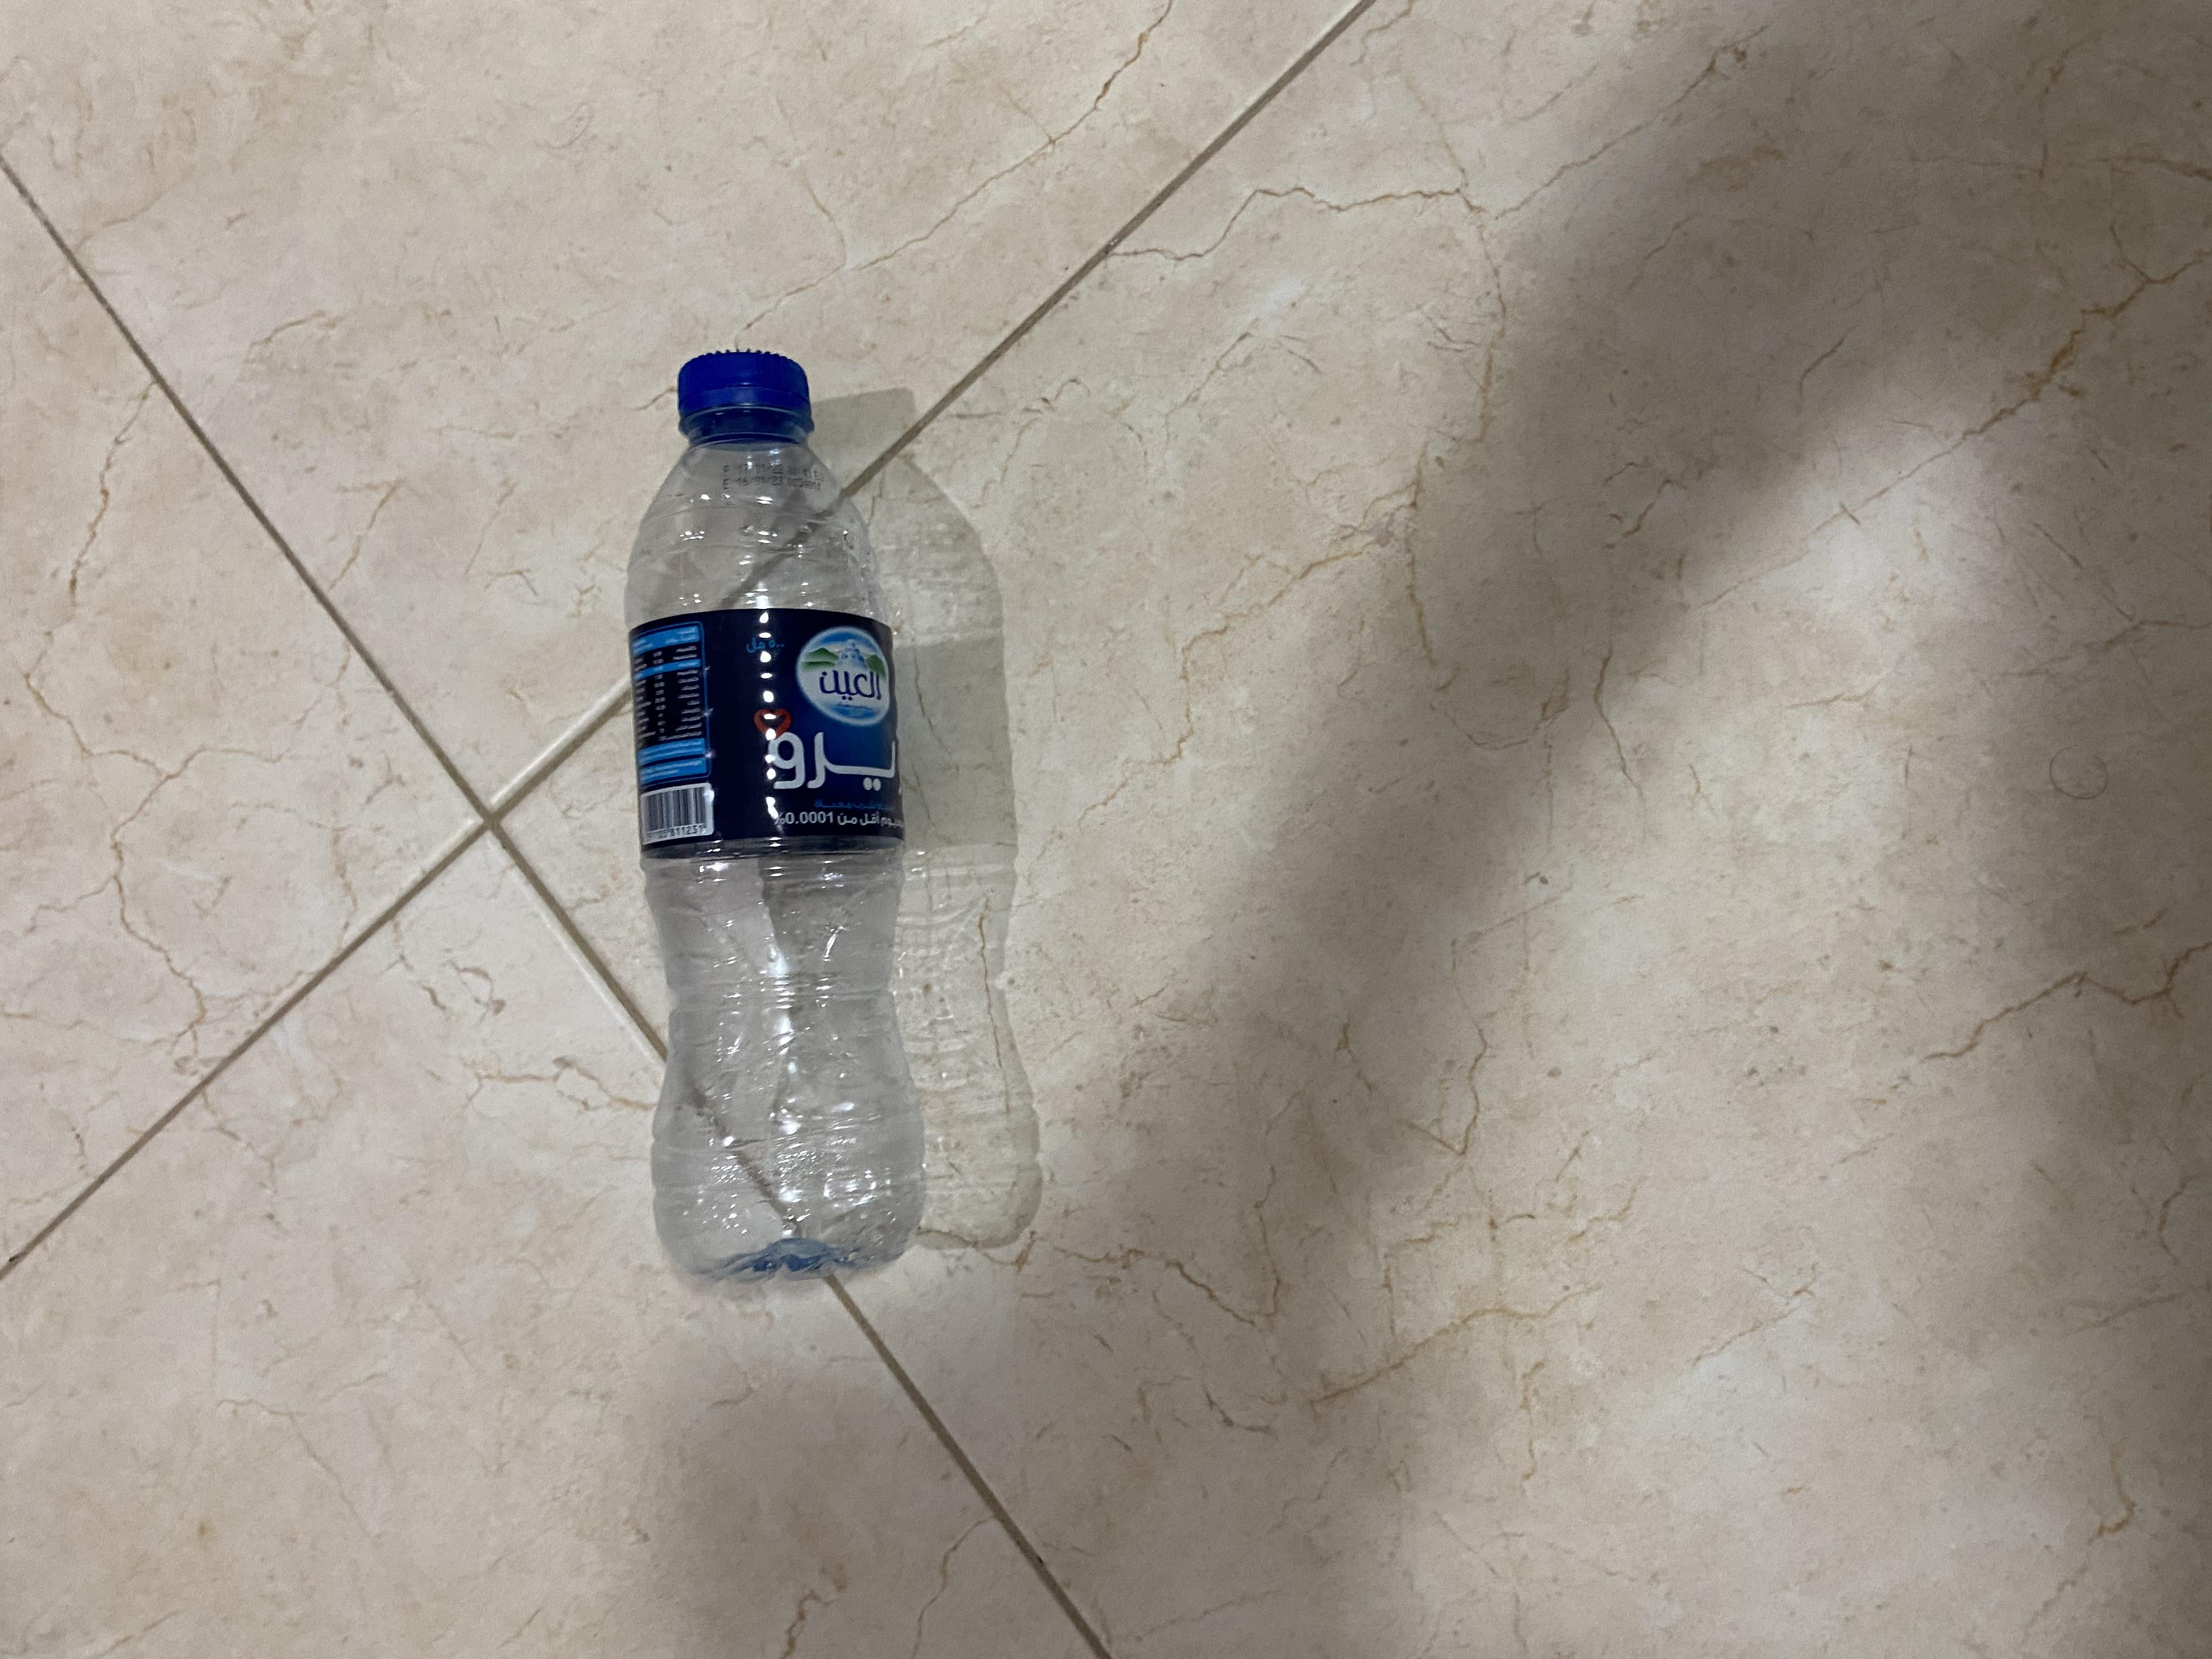bottle: (442, 432, 1764, 723)
